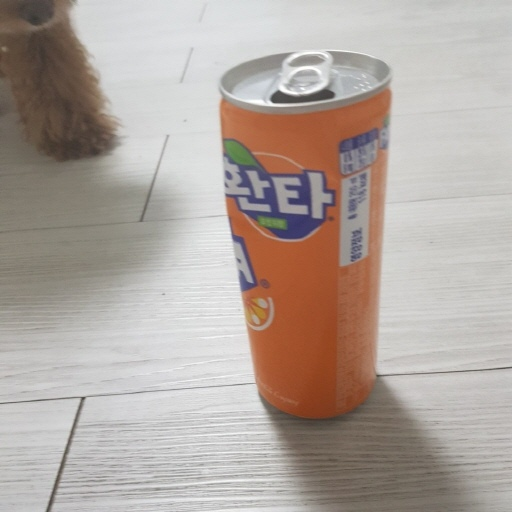Metal_0: (216, 47, 395, 422)
